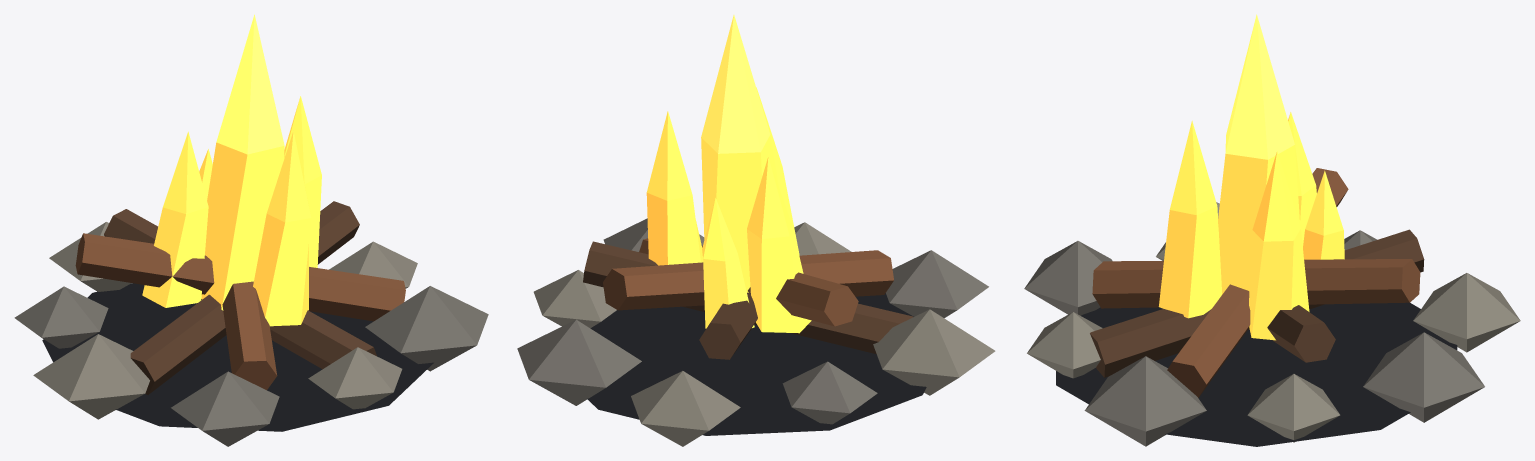
File: campfire.glb
3 views of the same model, side by side, from view 1: azimuth 30°, elevation 25°; view 2: azimuth 150°, elevation 25°; view 3: azimuth 270°, elevation 25° (orthographic). The views are drawn at different scales.
Visible parts, largest first — view 1: Body, Flame; view 2: Body, Flame; view 3: Body, Flame.
Boxes of the visible parts, x1,y1,x2,y2 form: Body: (14,201,488,446); Flame: (142,14,321,326); Body: (517,218,995,446); Flame: (646,15,811,333); Body: (1024,168,1520,446); Flame: (1158,14,1344,340).
Size of the model in its own units: 1.45 by 1.2 by 1.46.
